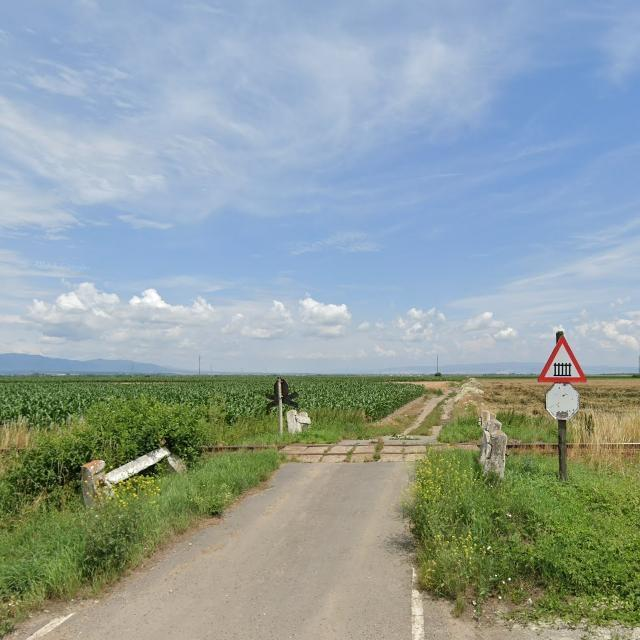prio_stop: (546, 384, 582, 422)
